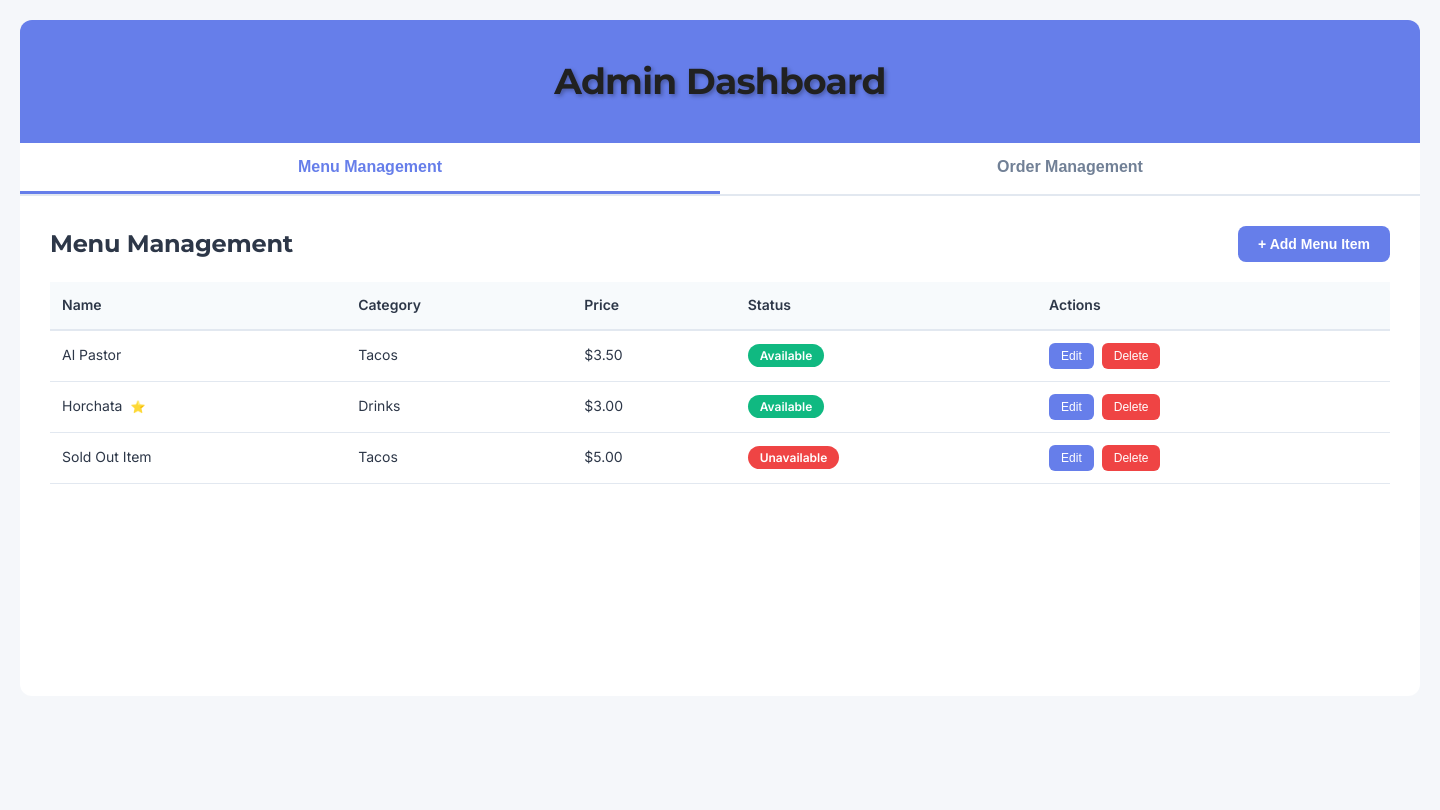
Test case: AdminDashboard Page › creates a new menu item
The width and height of the screenshot is (1440, 810).
Click the button "+ Add Menu Item".
click(1314, 244)  # box 1238,226 -> 1390,262
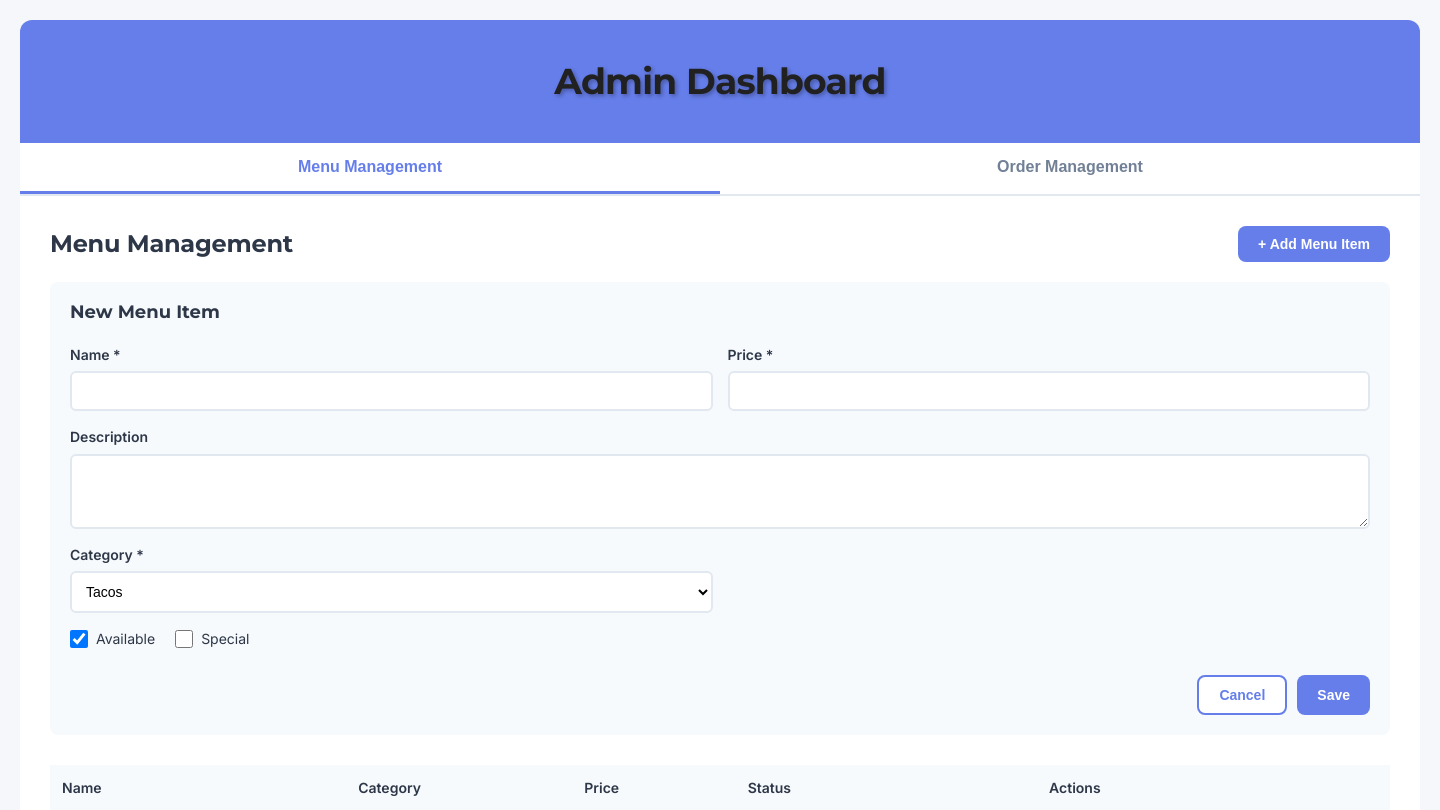
Type "New Taco" into the field labelled "Name *".
click(391, 391); type("New Taco")  # box 70,371 -> 712,411
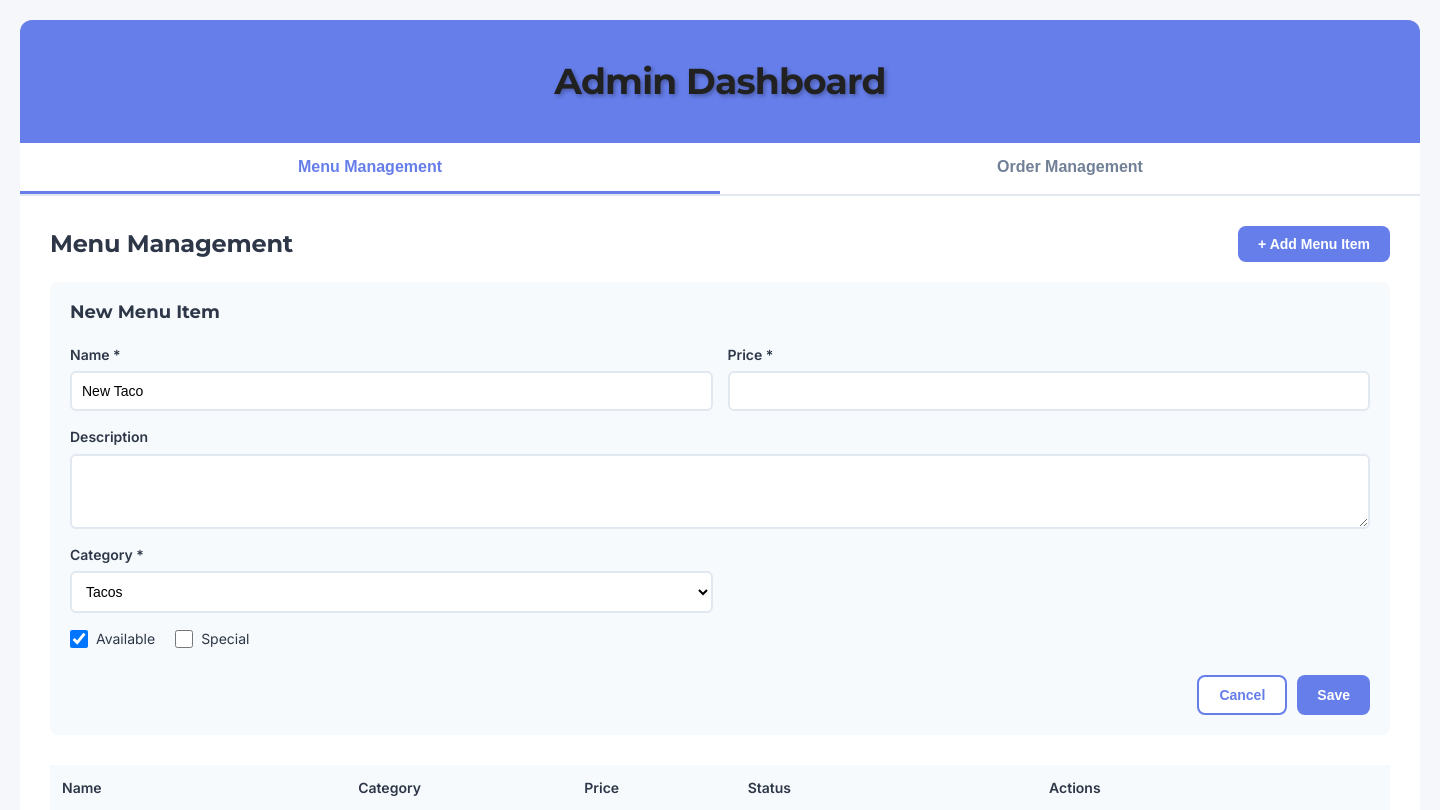
Type "4.00" into the number field labelled "Price *".
click(1049, 391); type("4.00")  # box 728,371 -> 1370,411
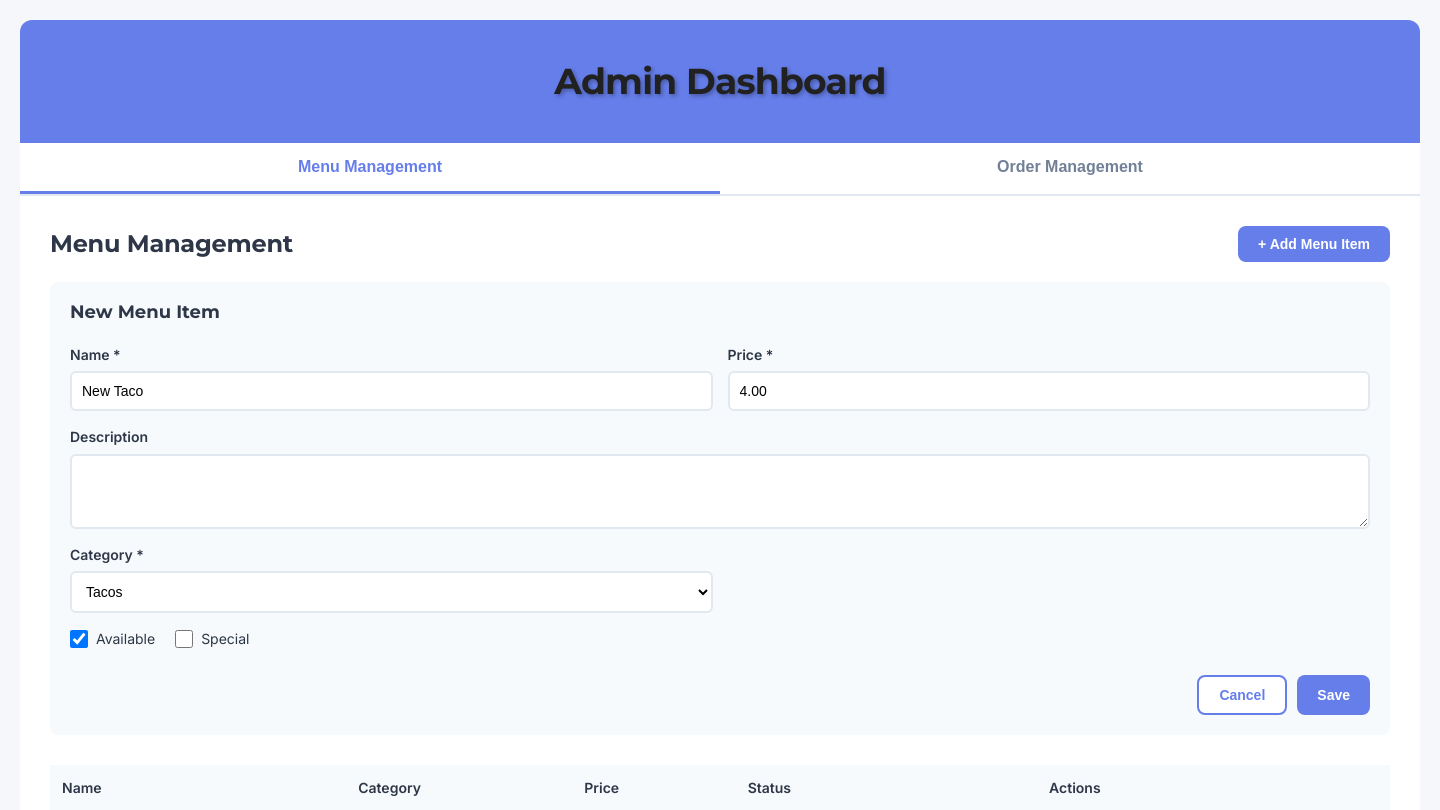
Select "Tacos" in the dropdown labelled "Category *" at (391, 592), box 70,571 -> 712,613
Click the button "Save".
click(1334, 695)  # box 1297,675 -> 1370,715
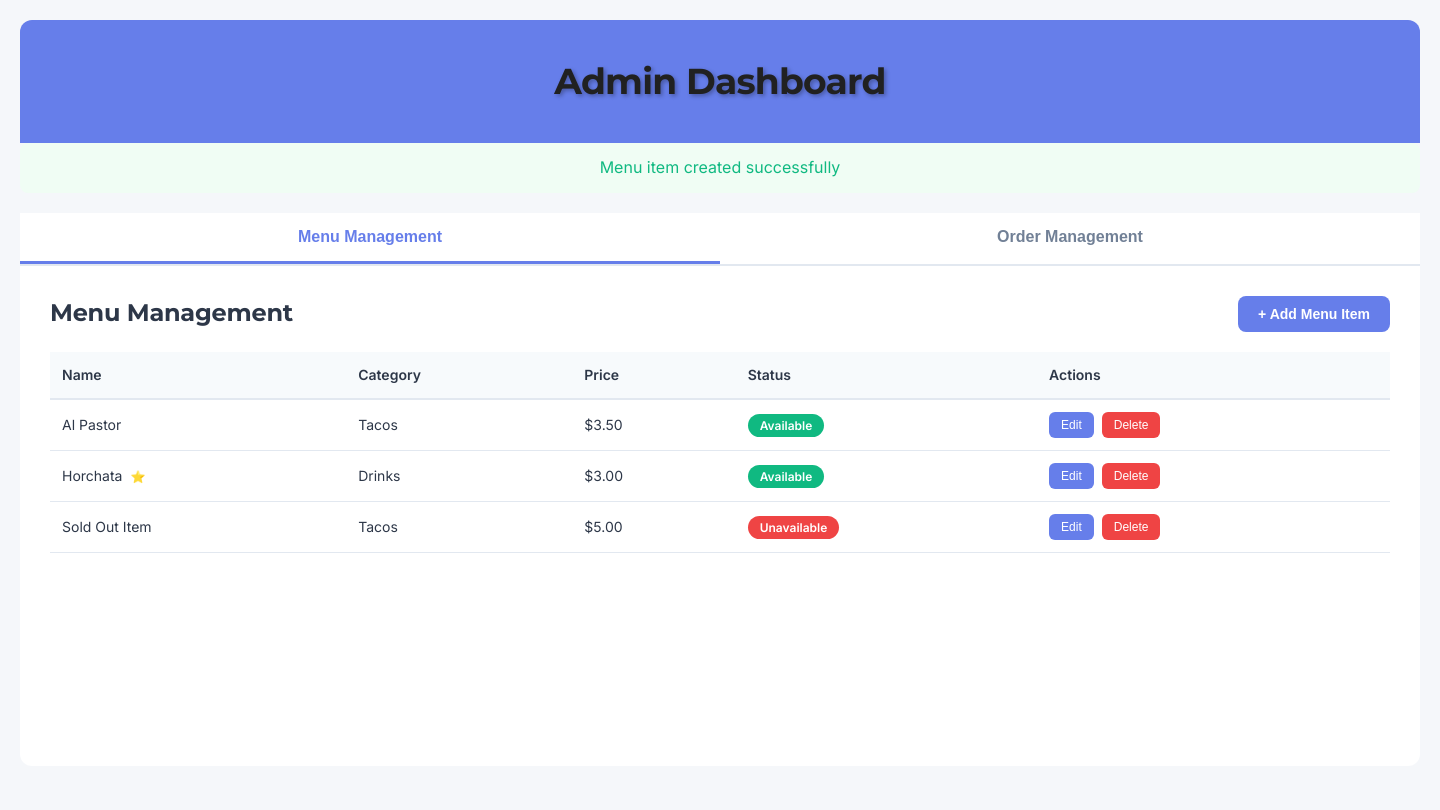
Expected: the text "Menu item created successfully" is shown, 20,143 -> 1420,193
